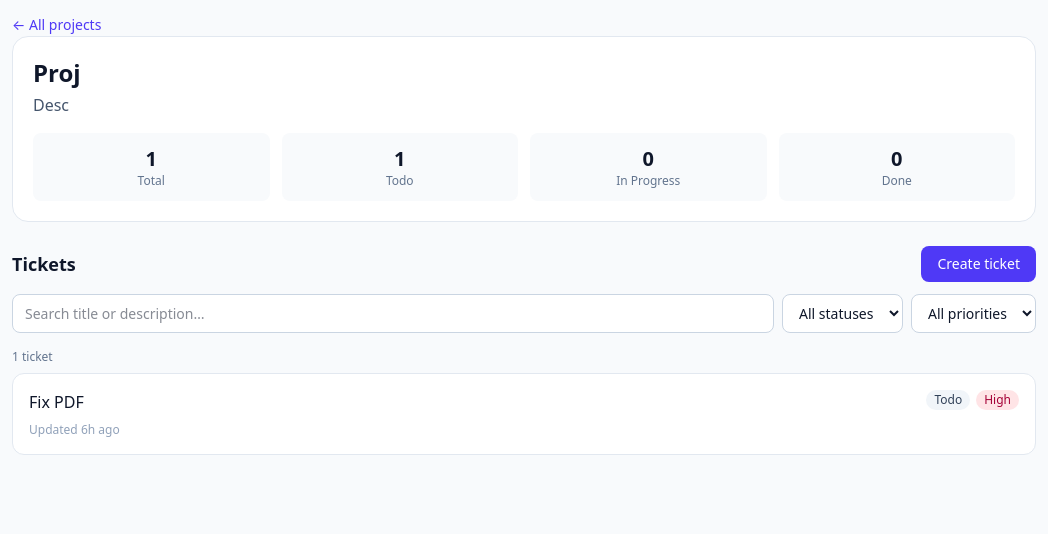
Test: project page search/filters are backend-powered › sends search + status to the API and shows the empty state for no matches
The image size is (1048, 534).
expect the heading "Fix PDF" is shown: met, box [29,390,84,414]
Type "  pdf " into the search field named "Search tickets" at (393, 314), box [12,294,774,333]
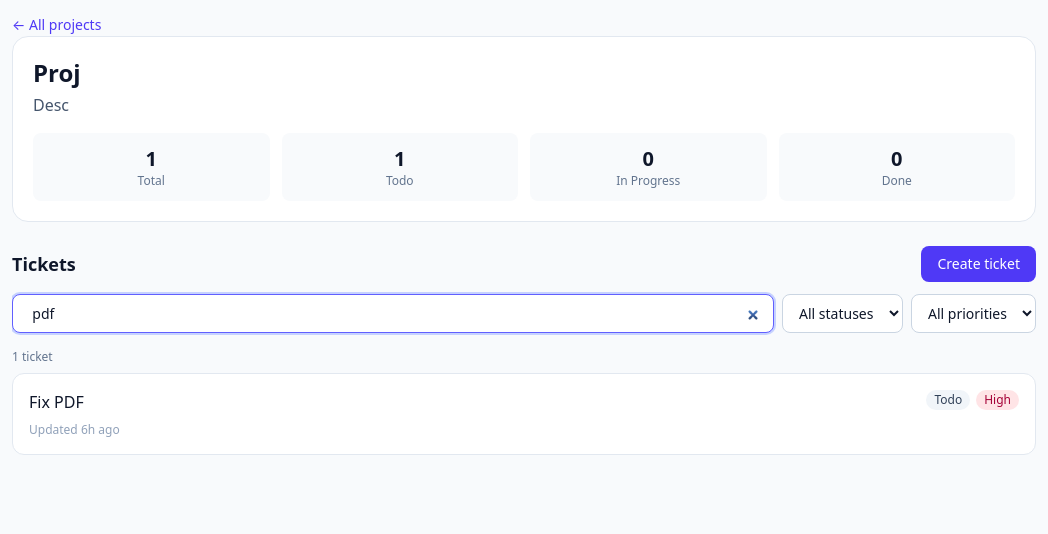
Select "Todo" in the dropdown named "Filter by status" at (842, 314), box [782,294,903,333]
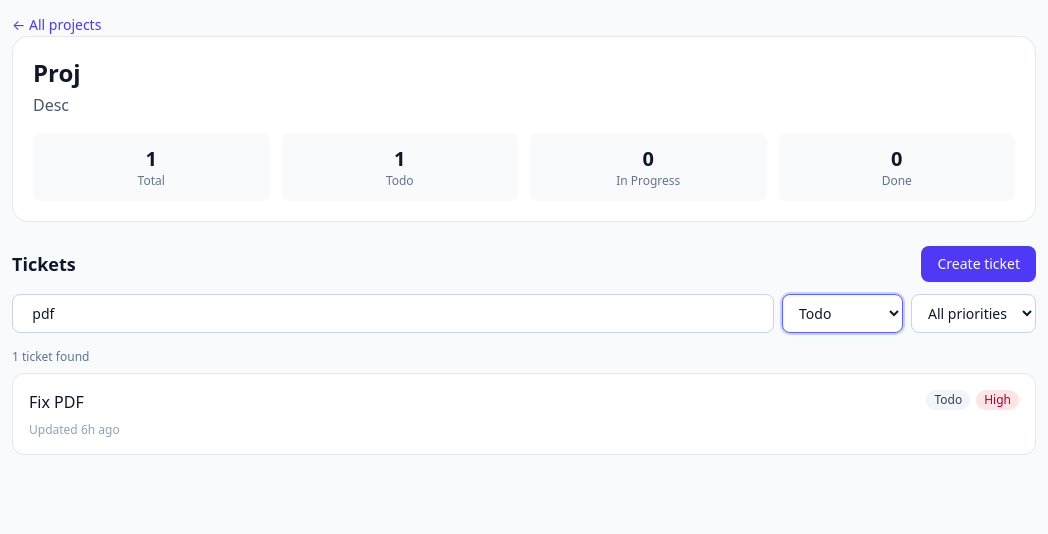
Replace the text in the search field named "Search tickets" with "zzz" at (393, 314), box [12,294,774,333]
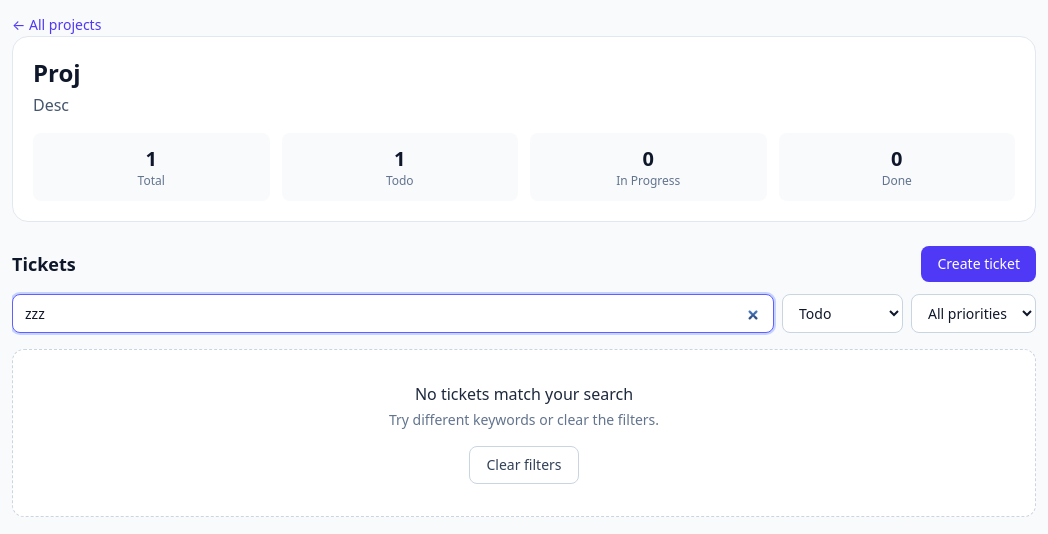
expect the text "No tickets match your search" is shown: met, box [415,383,633,405]
